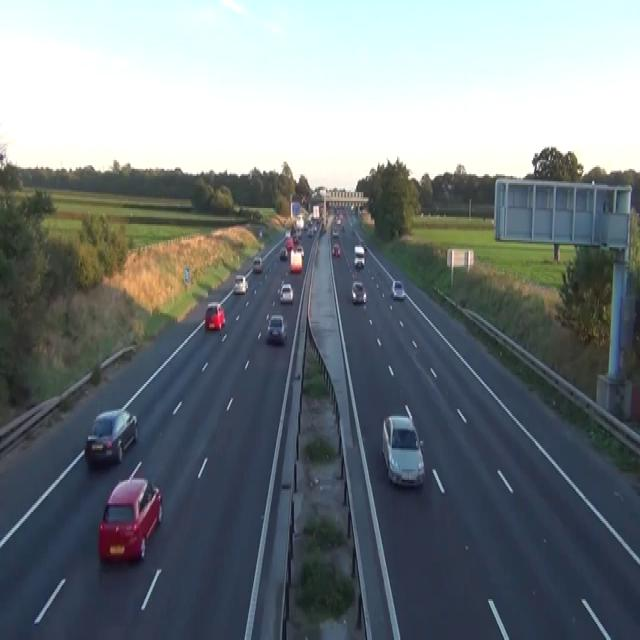Car: (98, 474, 162, 564), (381, 413, 425, 487), (84, 407, 138, 466), (266, 313, 287, 343), (204, 302, 225, 331), (351, 281, 366, 304), (279, 283, 293, 304), (233, 274, 248, 293), (391, 279, 405, 299), (353, 244, 365, 266), (252, 256, 263, 274), (332, 242, 340, 258), (295, 244, 304, 258), (279, 246, 287, 260), (285, 236, 293, 249), (335, 212, 342, 224), (305, 219, 312, 229), (307, 226, 313, 236), (332, 228, 339, 236), (335, 215, 341, 224), (292, 234, 298, 243), (284, 230, 290, 238), (296, 228, 302, 236), (322, 224, 326, 233), (341, 224, 345, 231), (259, 230, 262, 237)
